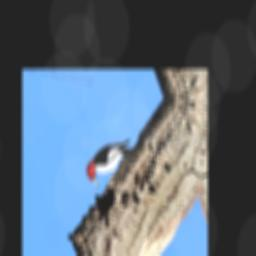Woodpecker: (79, 125, 141, 201)
